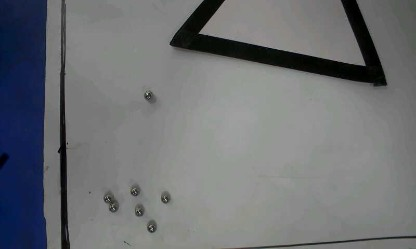ironball: (134, 204, 144, 216), (143, 89, 153, 100), (160, 193, 170, 203), (146, 223, 155, 233), (108, 202, 117, 212), (102, 194, 111, 203), (129, 186, 137, 196)
